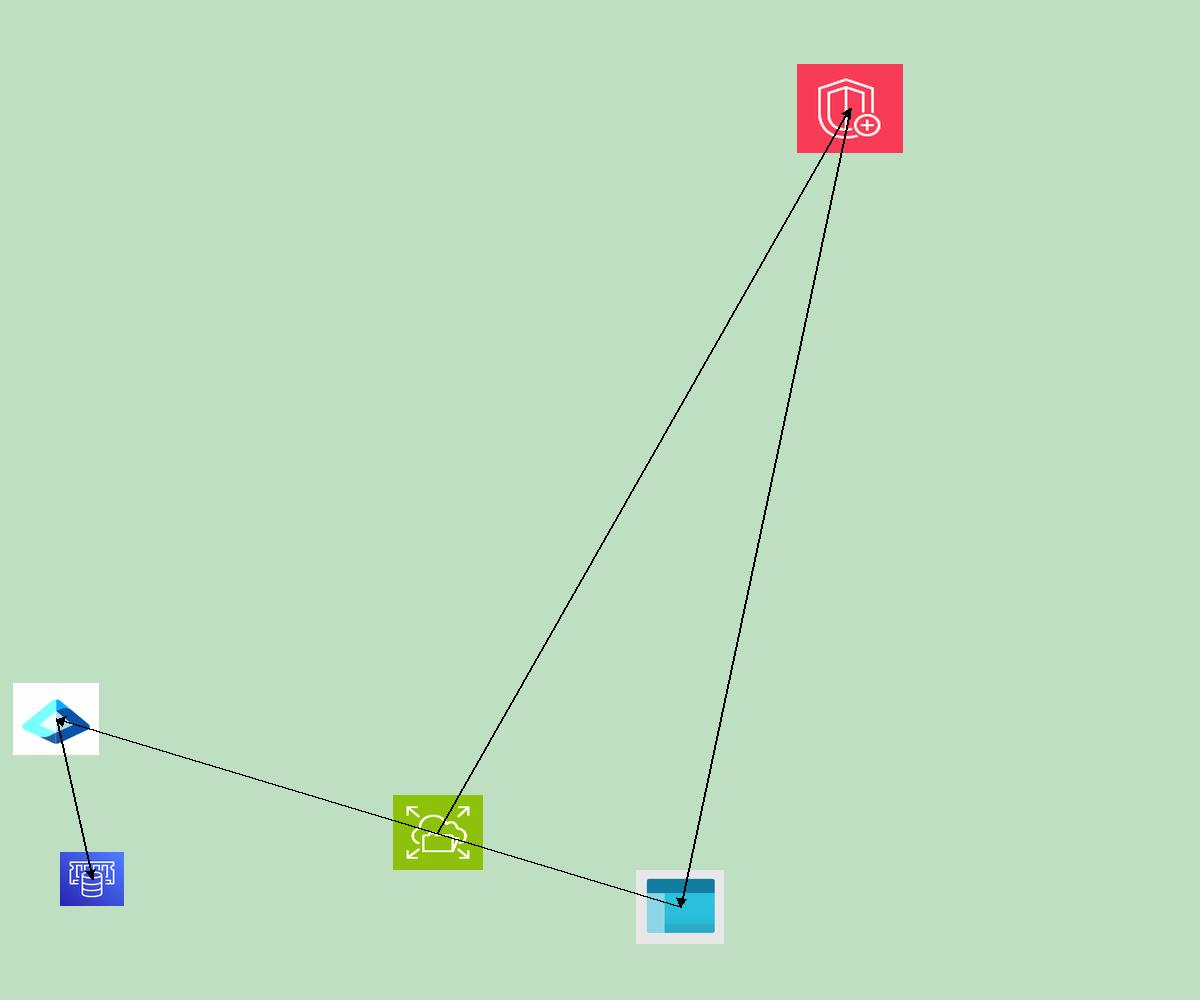AWS-EFS: (393, 795, 483, 870)
AWS-ElastiCache: (60, 852, 124, 906)
AWS-Shield: (797, 64, 903, 153)
Azure_management-portal: (636, 870, 724, 944)
Azure_microsoft_entra: (13, 683, 99, 755)
